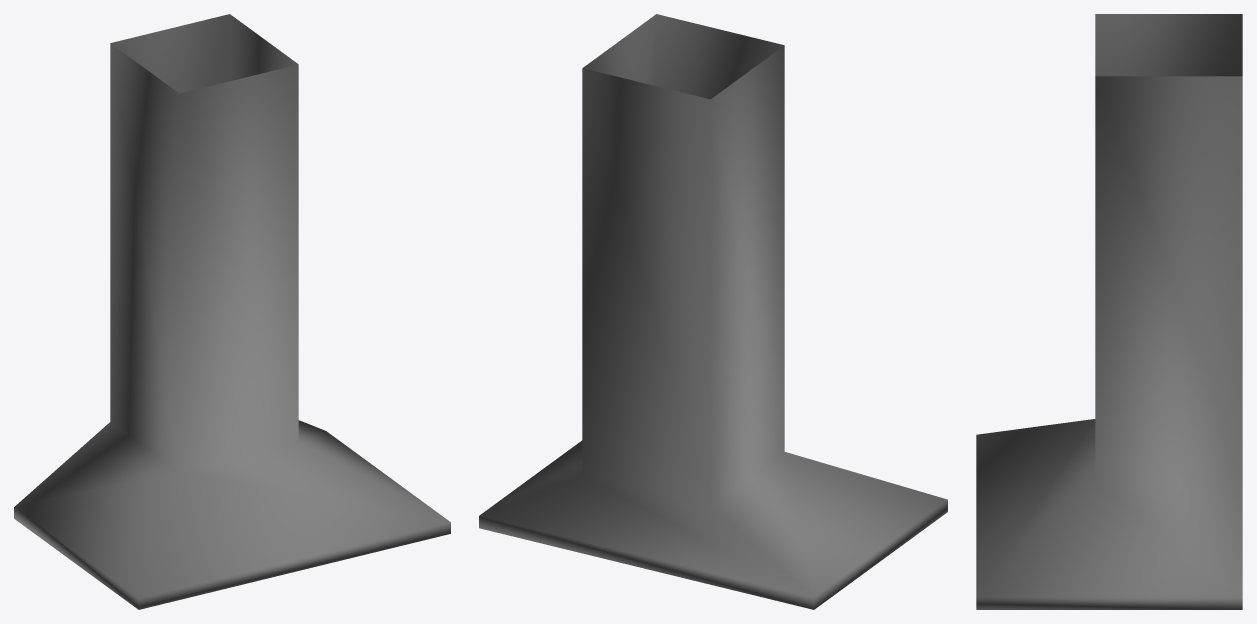
The model's file is Extractor.dae.
3 views of the same model, side by side, from view 1: azimuth 30°, elevation 25°; view 2: azimuth 150°, elevation 25°; view 3: azimuth 270°, elevation 25° (orthographic). The views are drawn at different scales.
Visible parts, largest first — view 1: ExtractorHood; view 2: ExtractorHood; view 3: ExtractorHood.
Part boxes in pixels (x1,y1,x2,y2): ExtractorHood: (14,14,450,609); ExtractorHood: (479,14,947,609); ExtractorHood: (976,14,1242,609).
Bounding box in the file's own units: 0.9662 × 0.6686 × 1.34.
1 material, 1 textured.
